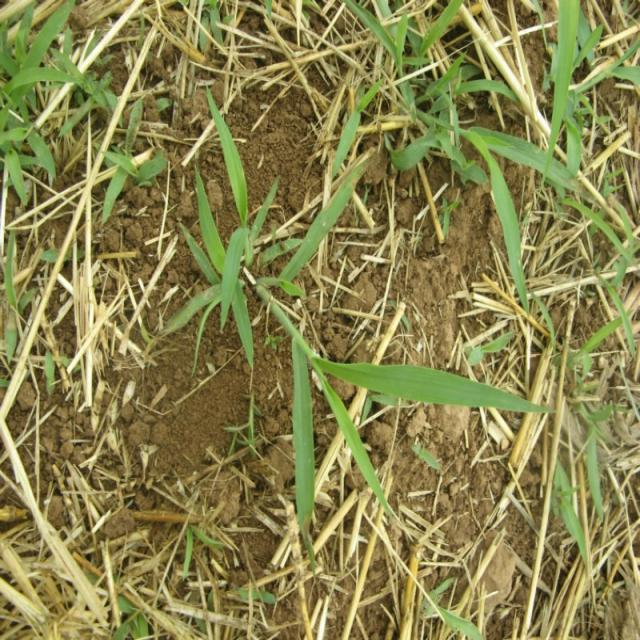bg: (178, 90, 538, 538)
